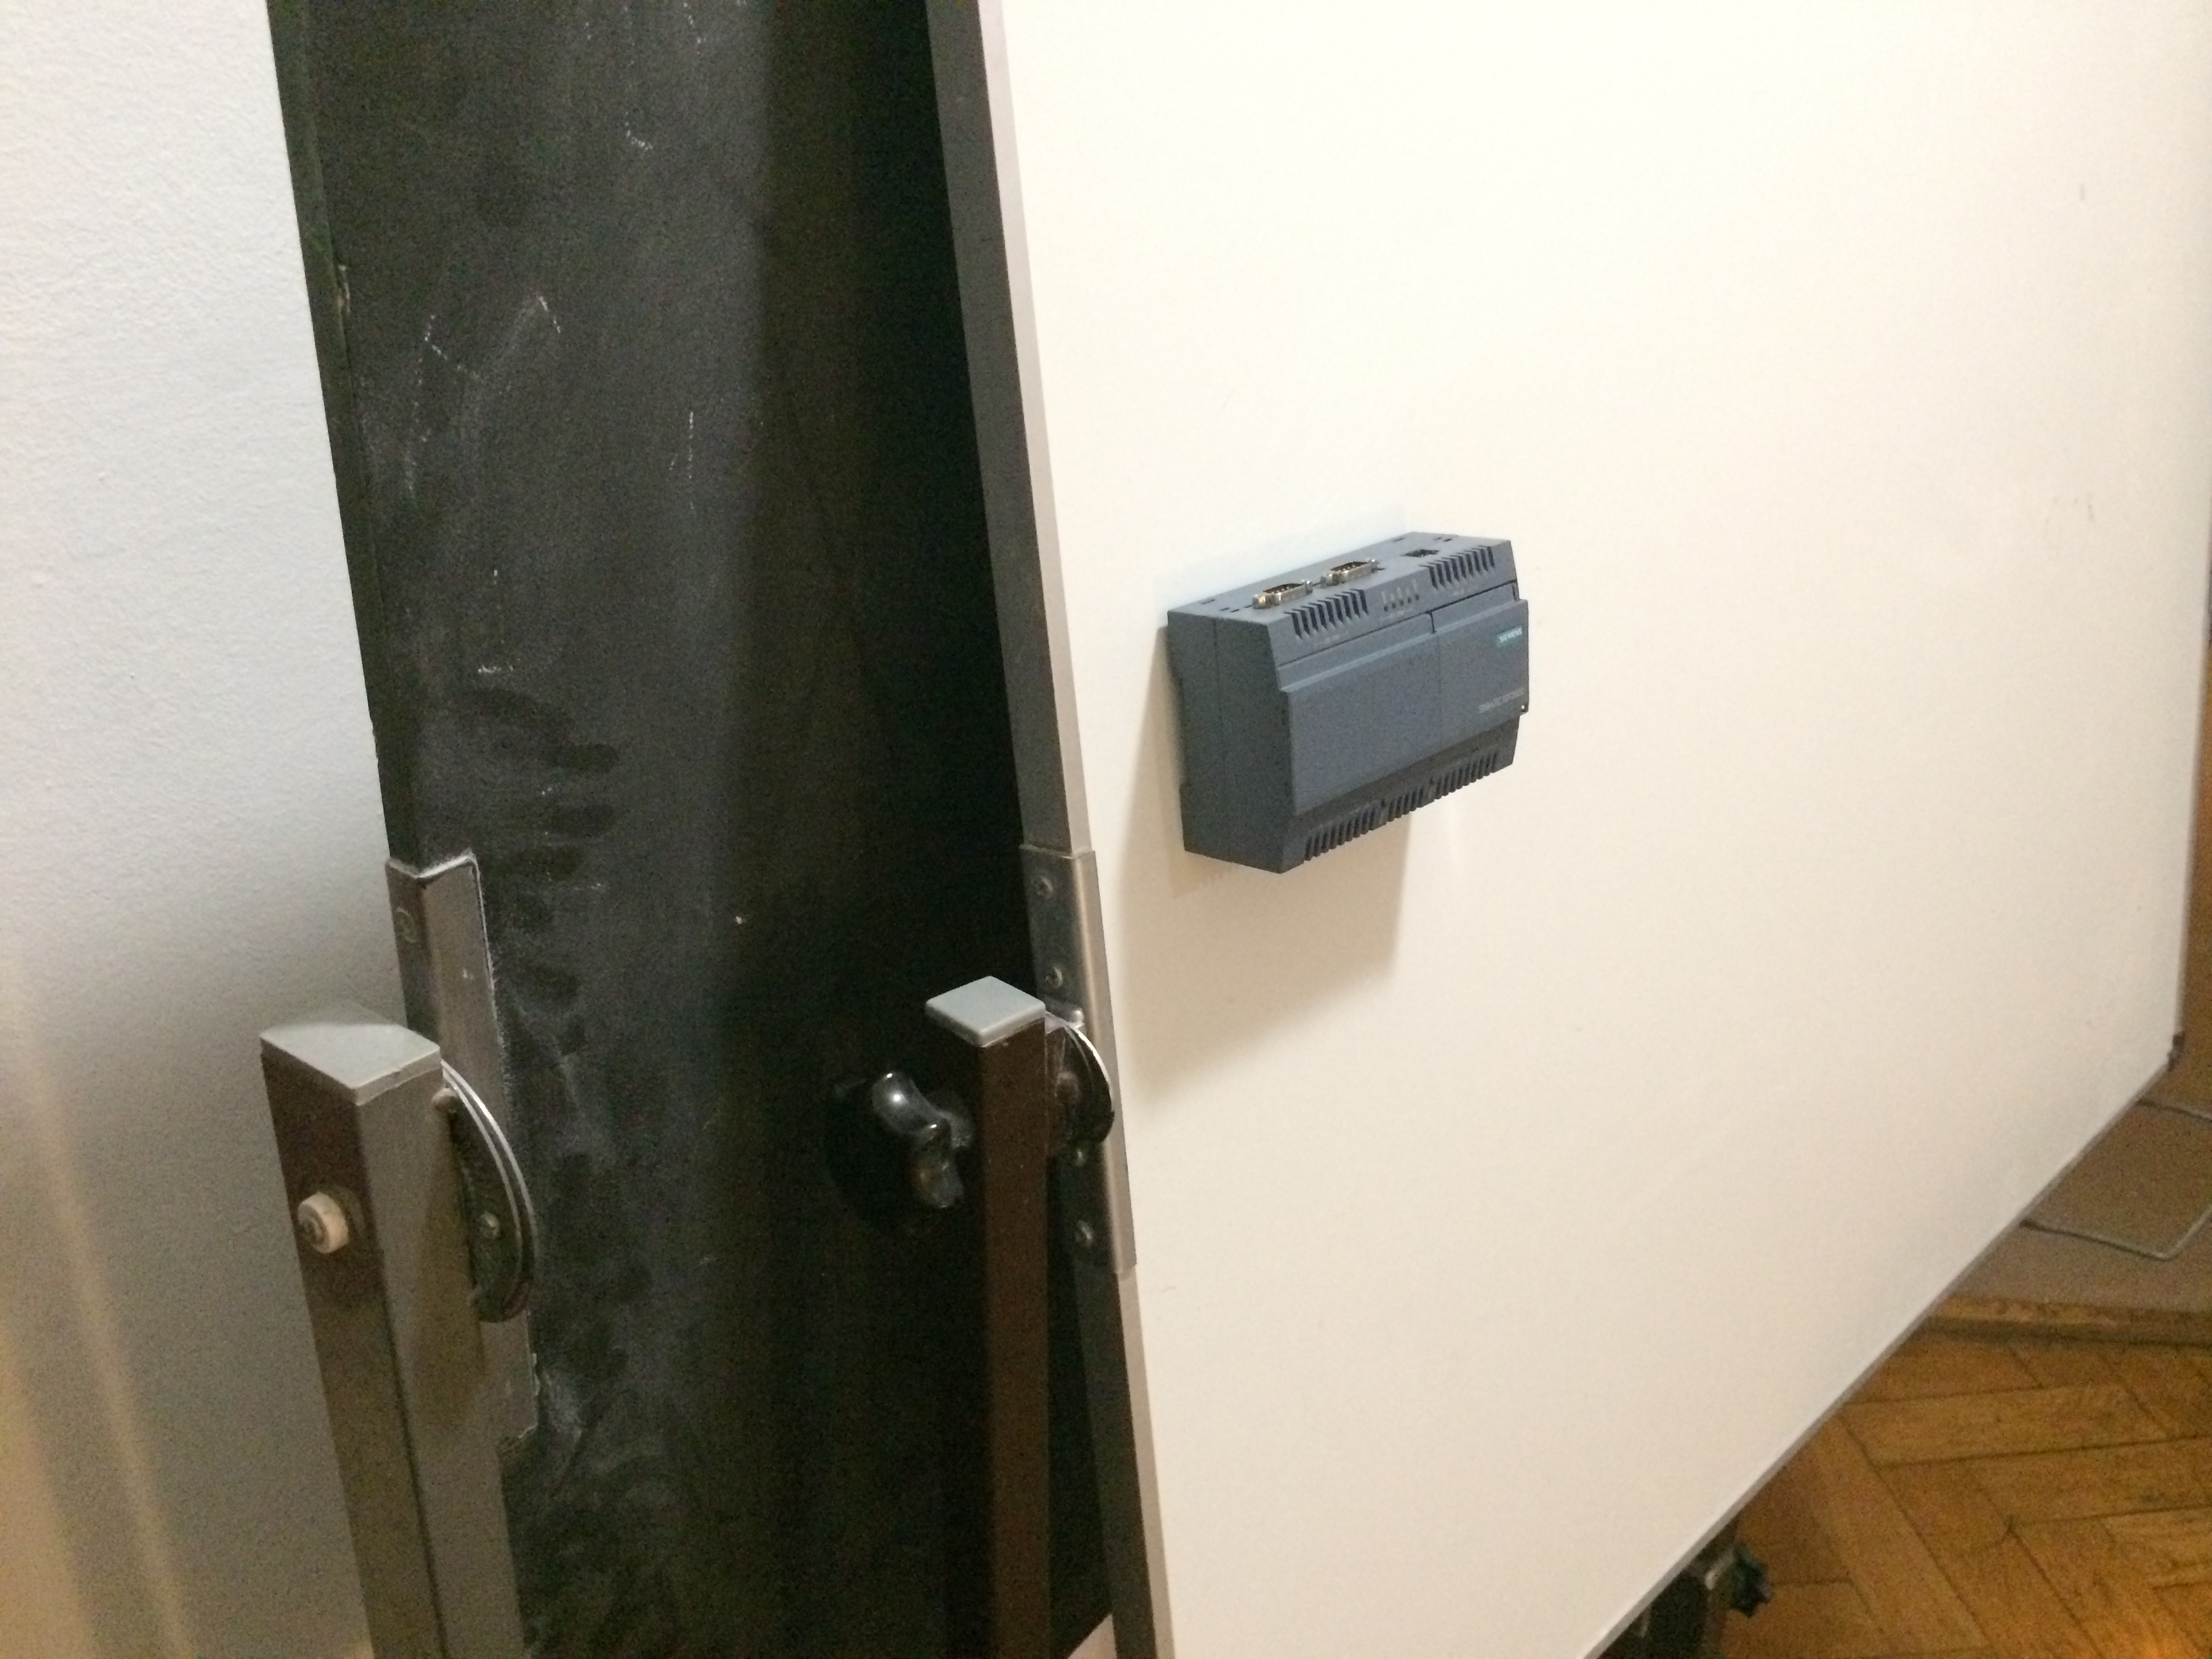iot2000: (1163, 530, 1534, 878)
